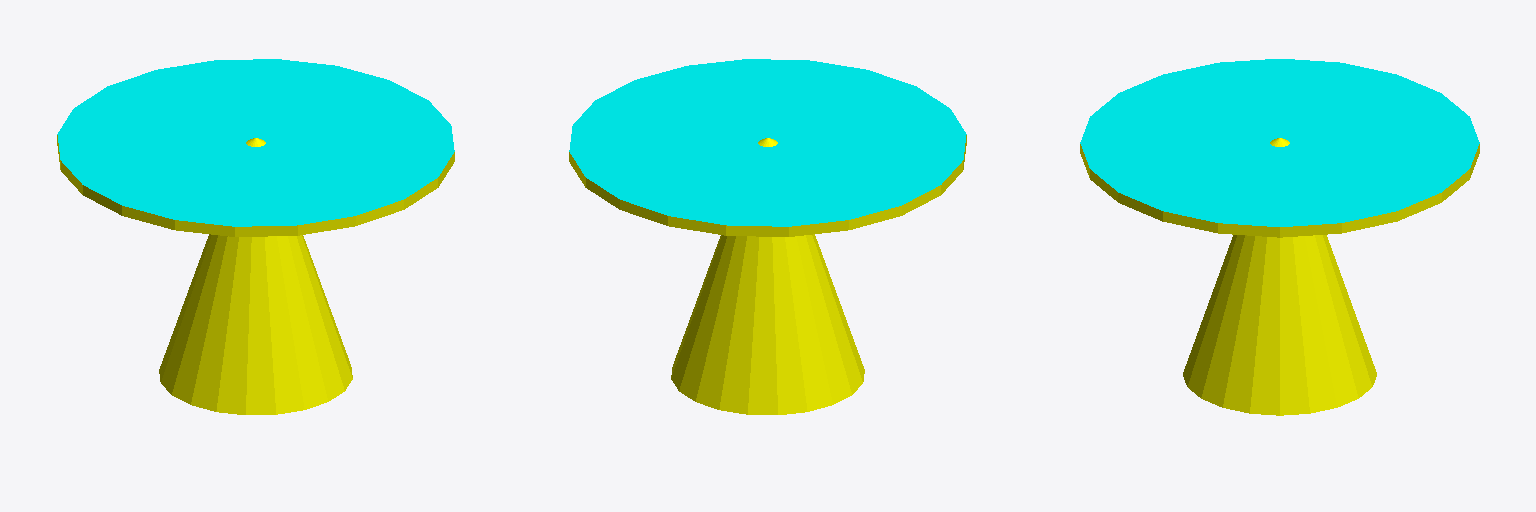
File: Table_Textured.obj
3 views of the same model, side by side, from view 1: azimuth 30°, elevation 25°; view 2: azimuth 150°, elevation 25°; view 3: azimuth 270°, elevation 25° (orthographic).
Visible parts, largest first — view 1: pCylinder1, pCylinder2 pCylinder1; view 2: pCylinder1, pCylinder2 pCylinder1; view 3: pCylinder1, pCylinder2 pCylinder1.
Part boxes in pixels (x1,y1,x2,y2): pCylinder1: (57, 59, 454, 236); pCylinder2 pCylinder1: (159, 138, 352, 414); pCylinder1: (569, 59, 966, 236); pCylinder2 pCylinder1: (671, 138, 864, 414); pCylinder1: (1080, 59, 1479, 237); pCylinder2 pCylinder1: (1183, 138, 1376, 415).
Size of the model in its own units: 13.42 by 8.79 by 13.42.